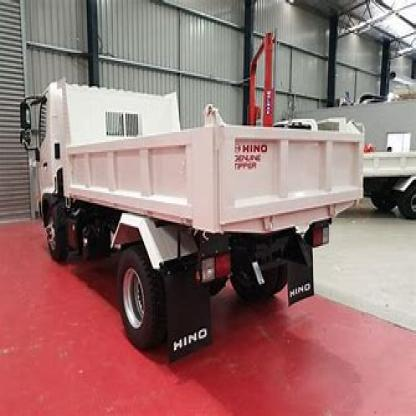dump_truck: (15, 60, 363, 358)
